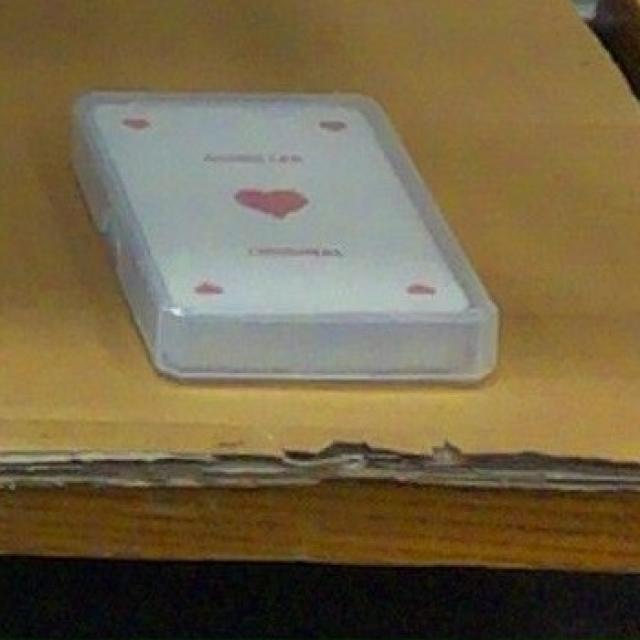Jasskarte: (73, 91, 496, 380)
